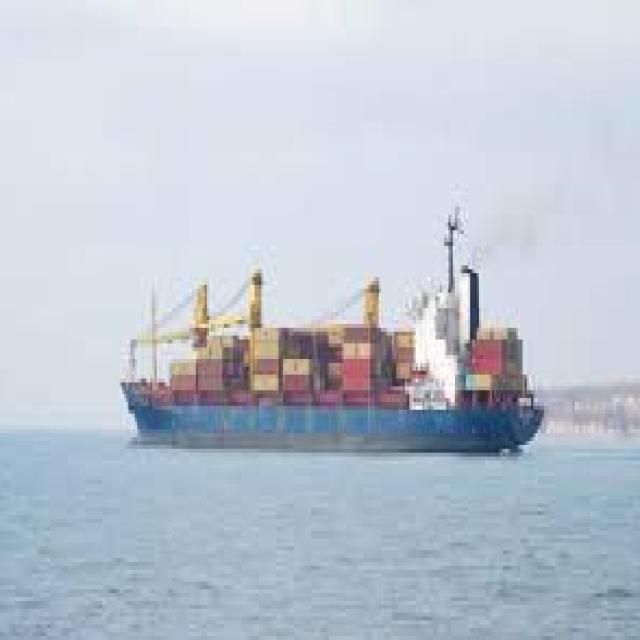houseboat: (116, 213, 543, 461)
